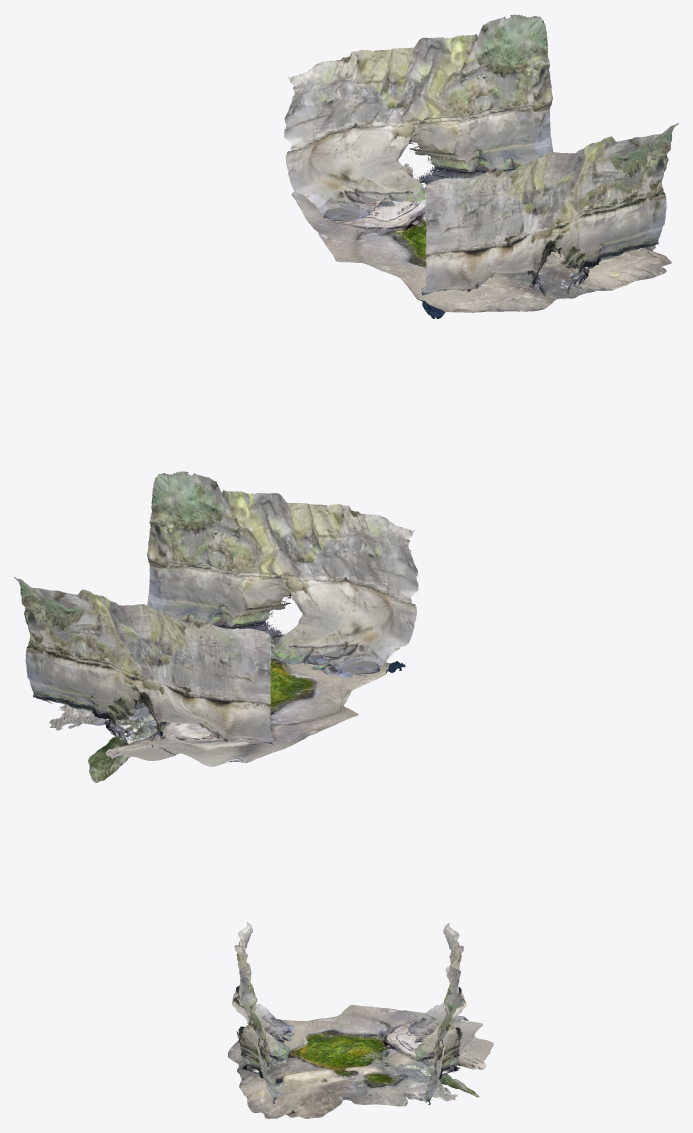
File: deniz.glb
The picture shows the model from 3 angles, top to bottom: view 1: azimuth 30°, elevation 25°; view 2: azimuth 150°, elevation 25°; view 3: azimuth 270°, elevation 25°; orthographic projection. The views are drawn at different scales.
Parts seen in each view (by area): view 1: Stereo textured mesh_Material0_0.006, Stereo textured mesh_Material0_0.001, Object_4; view 2: Stereo textured mesh_Material0_0.001, Stereo textured mesh_Material0_0.006, Object_4; view 3: Object_4, Stereo textured mesh_Material0_0.001, Stereo textured mesh_Material0_0.006.
Boxes of the visible parts, x1,y1,x2,y2 form: Stereo textured mesh_Material0_0.006: [284, 14, 552, 222]; Stereo textured mesh_Material0_0.001: [421, 123, 678, 298]; Object_4: [291, 163, 671, 318]; Stereo textured mesh_Material0_0.001: [147, 471, 418, 677]; Stereo textured mesh_Material0_0.006: [14, 576, 273, 744]; Object_4: [49, 634, 405, 782]; Object_4: [228, 1005, 493, 1118]; Stereo textured mesh_Material0_0.001: [232, 922, 294, 1103]; Stereo textured mesh_Material0_0.006: [399, 922, 466, 1104].
Bounding box in the file's own units: 71.82 × 31.66 × 155.
Materials: 4 (4 with a texture image).
